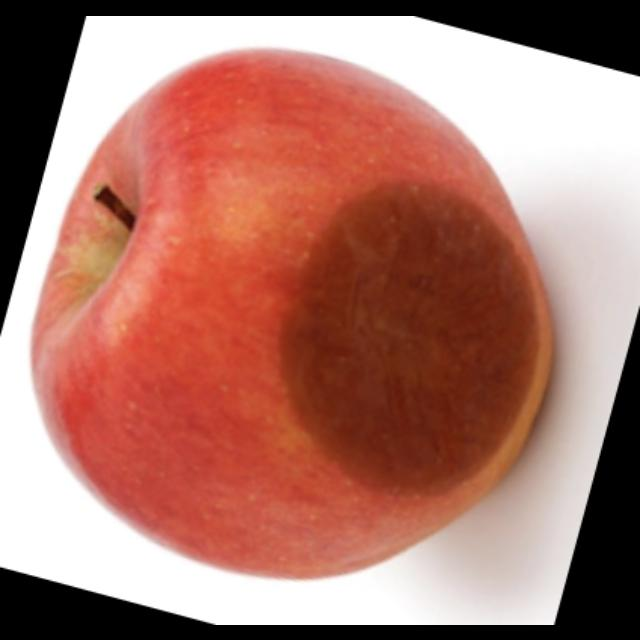Apel Tidak Segar: (24, 43, 560, 584)
